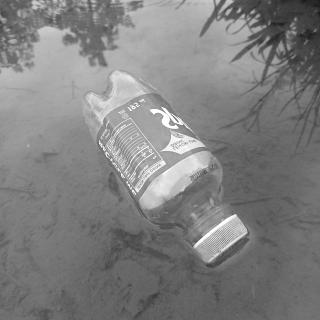bottle: (79, 68, 251, 268)
